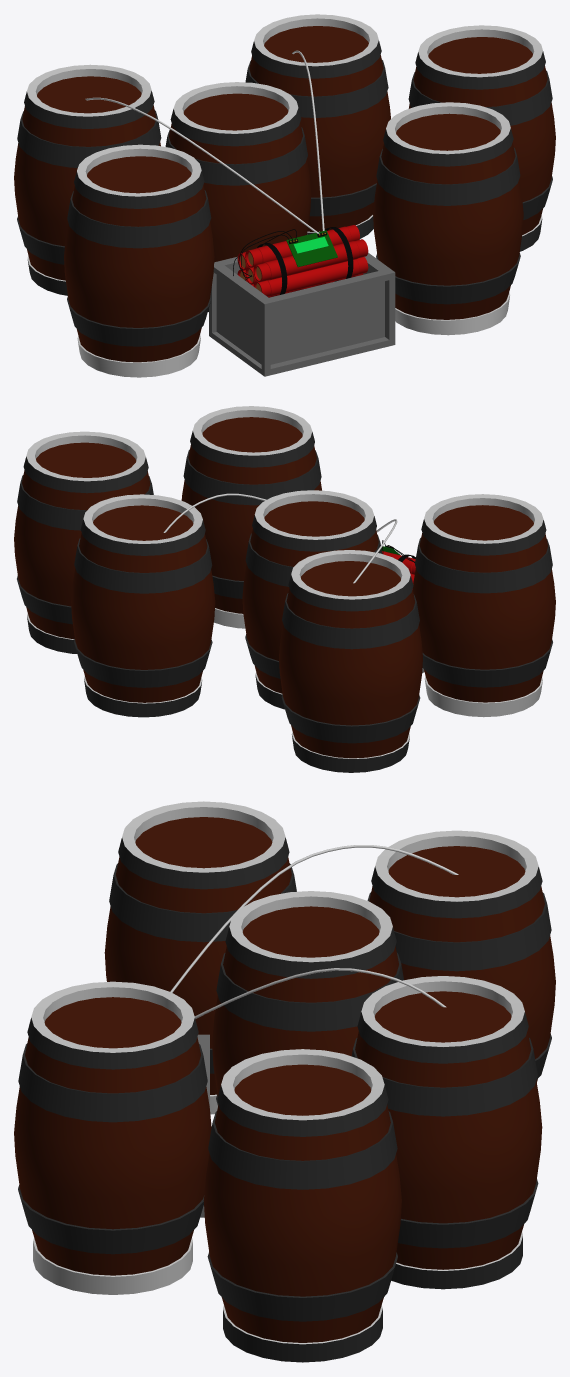
File: Bomba Extreme.fbx
3 renders of one model, top to bottom at view 1: azimuth 30°, elevation 25°; view 2: azimuth 150°, elevation 25°; view 3: azimuth 270°, elevation 25°, orthographic. The views are drawn at different scales.
Visible parts, largest first — view 1: Cylinder (2), Mesh, Mesh (3), Cylinder, Cylinder (5); view 2: Cylinder (2), Mesh (3); view 3: Cylinder (2), Cylinder, Cylinder (5).
Boxes of the visible parts, bbox=[...] form: Cylinder (2): bbox=[14, 14, 555, 377]; Mesh: bbox=[209, 252, 395, 376]; Mesh (3): bbox=[233, 225, 368, 297]; Cylinder: bbox=[85, 97, 319, 233]; Cylinder (5): bbox=[292, 50, 324, 230]; Cylinder (2): bbox=[14, 406, 555, 772]; Mesh (3): bbox=[381, 540, 415, 589]; Cylinder (2): bbox=[14, 801, 555, 1362]; Cylinder: bbox=[170, 845, 458, 992]; Cylinder (5): bbox=[194, 968, 446, 1018].
Size of the model in its own units: 2869 by 1073 by 1970.
